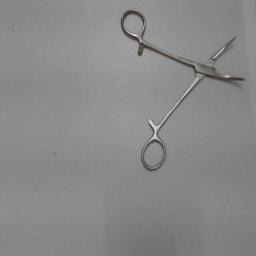Crile Artery Forceps: (118, 6, 248, 174)
